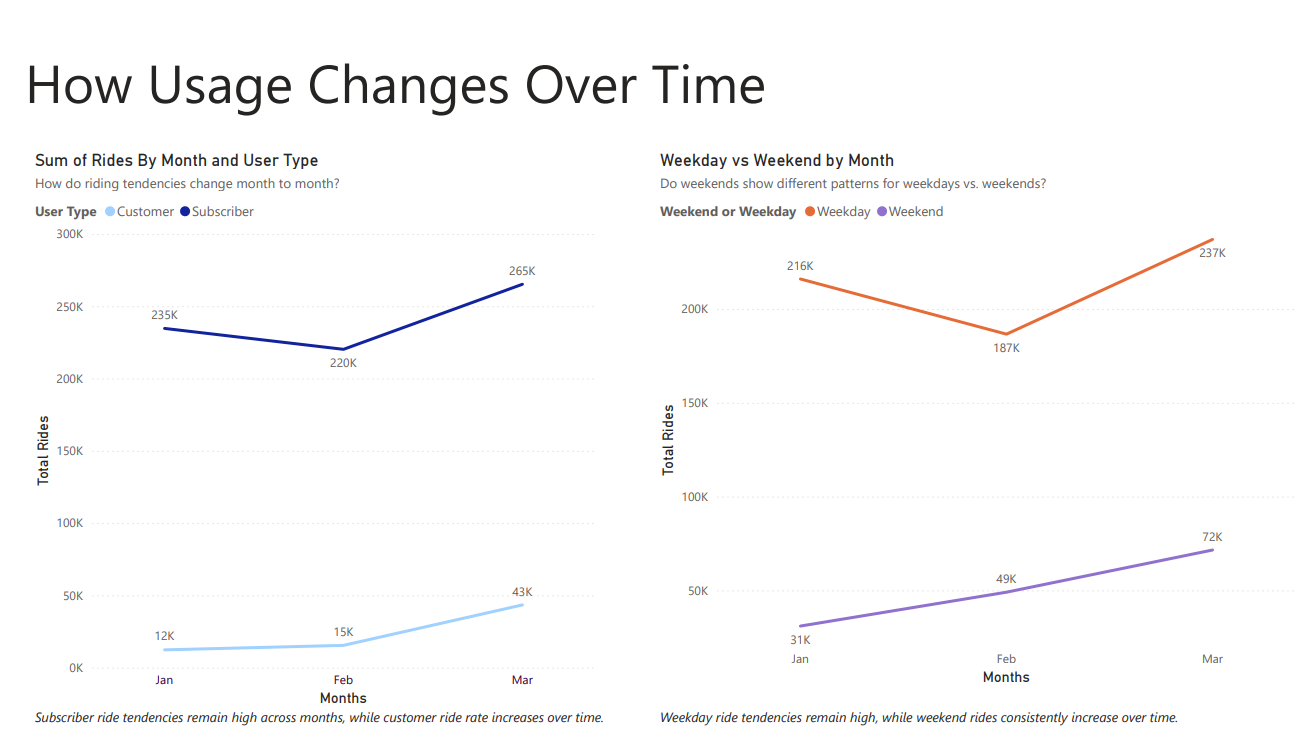

Layout of this report page (visuals, bound fields, positions):
{"tool":"powerbi","page":{"name":"How Usage Changes Over Time","canvas":[1280,720],"ordinal":2},"visuals":[{"type":"lineChart","title":"Sum of Rides By Month and User Type","fields":{"Category":["Monthly User Type Share and RL.MonthUpdated"],"Y":["Sum(Monthly User Type Share and RL.rides)"],"Series":["Monthly User Type Share and RL.User Type"]},"box":[9.7,132.3,569,560.2],"z":0},{"type":"lineChart","title":"Weekday vs Weekend by Month","fields":{"Category":["Weekday  vs Weekend by Month.MonthUpdated"],"Y":["Sum(Weekday  vs Weekend by Month.Rides)"],"Series":["Weekday  vs Weekend by Month.Weekend or Weekday"]},"box":[635.1,132.3,644.9,539.8],"z":1000},{"type":"textbox","box":[0,22.4,1047.5,98.2],"z":1002},{"type":"textbox","box":[9.7,684.7,583.6,35],"z":1003},{"type":"textbox","box":[635.1,684.7,627.4,35],"z":1004}]}

Visuals, with their boxes in screenshot pixels (x1, y1, x2, y2), scaled from the page's 1280x720 canvas onto the 1312x753 screenshot:
"Sum of Rides By Month and User Type" lineChart: {"left": 10, "top": 138, "right": 593, "bottom": 724}
"Weekday vs Weekend by Month" lineChart: {"left": 651, "top": 138, "right": 1311, "bottom": 703}
textbox: {"left": 0, "top": 23, "right": 1074, "bottom": 126}
textbox: {"left": 10, "top": 716, "right": 608, "bottom": 752}
textbox: {"left": 651, "top": 716, "right": 1294, "bottom": 752}
